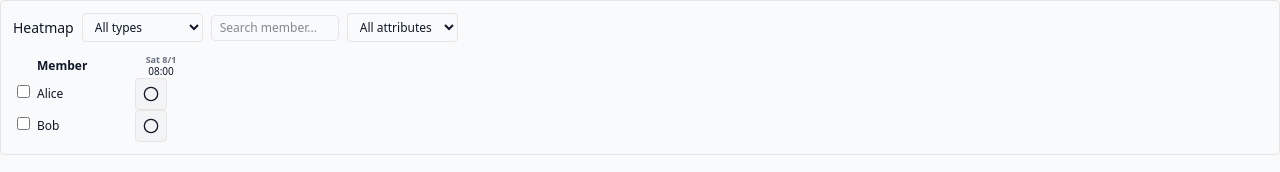
DistributionHeatmap › filters members by attribute value
The width and height of the screenshot is (1280, 172).
Expected: the text "Alice" is shown, [37, 78, 133, 110]
Select "role" in the dropdown named "Attribute" at (402, 28), box [347, 13, 458, 42]
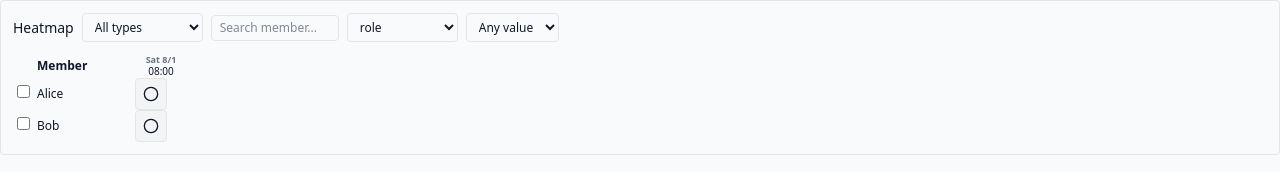
Select "medic" in the dropdown named "Attribute value" at (512, 28), box [466, 13, 559, 42]
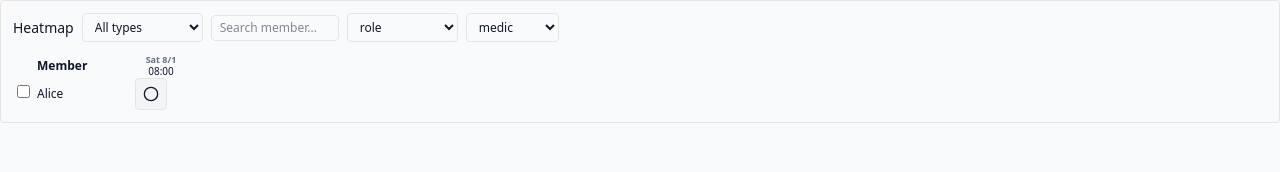
Expected: the text "Alice" is shown, [37, 78, 133, 110]
Now the text "Bob" is gone
